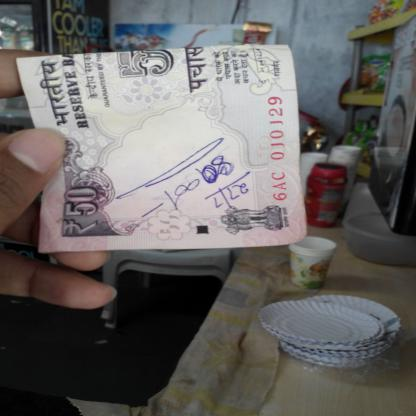Old50Front: (16, 44, 307, 254)
